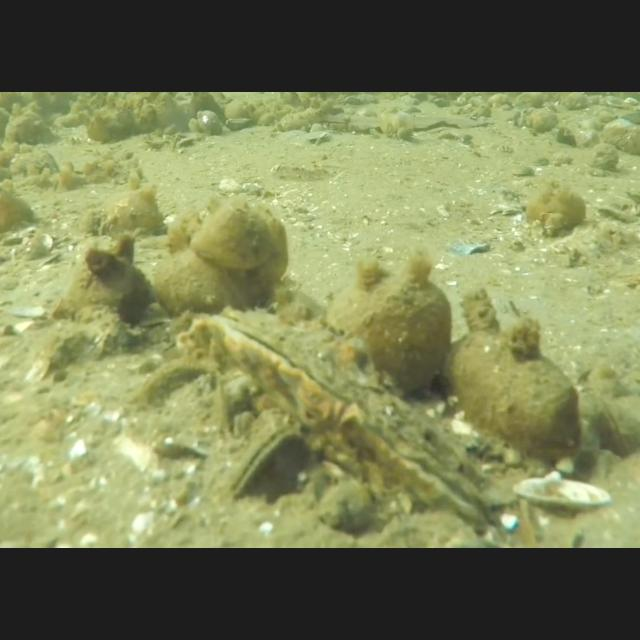Oyster-Closed: (572, 394, 640, 462)
Oyster-Open: (191, 308, 494, 524), (223, 422, 313, 508), (512, 474, 610, 514)
